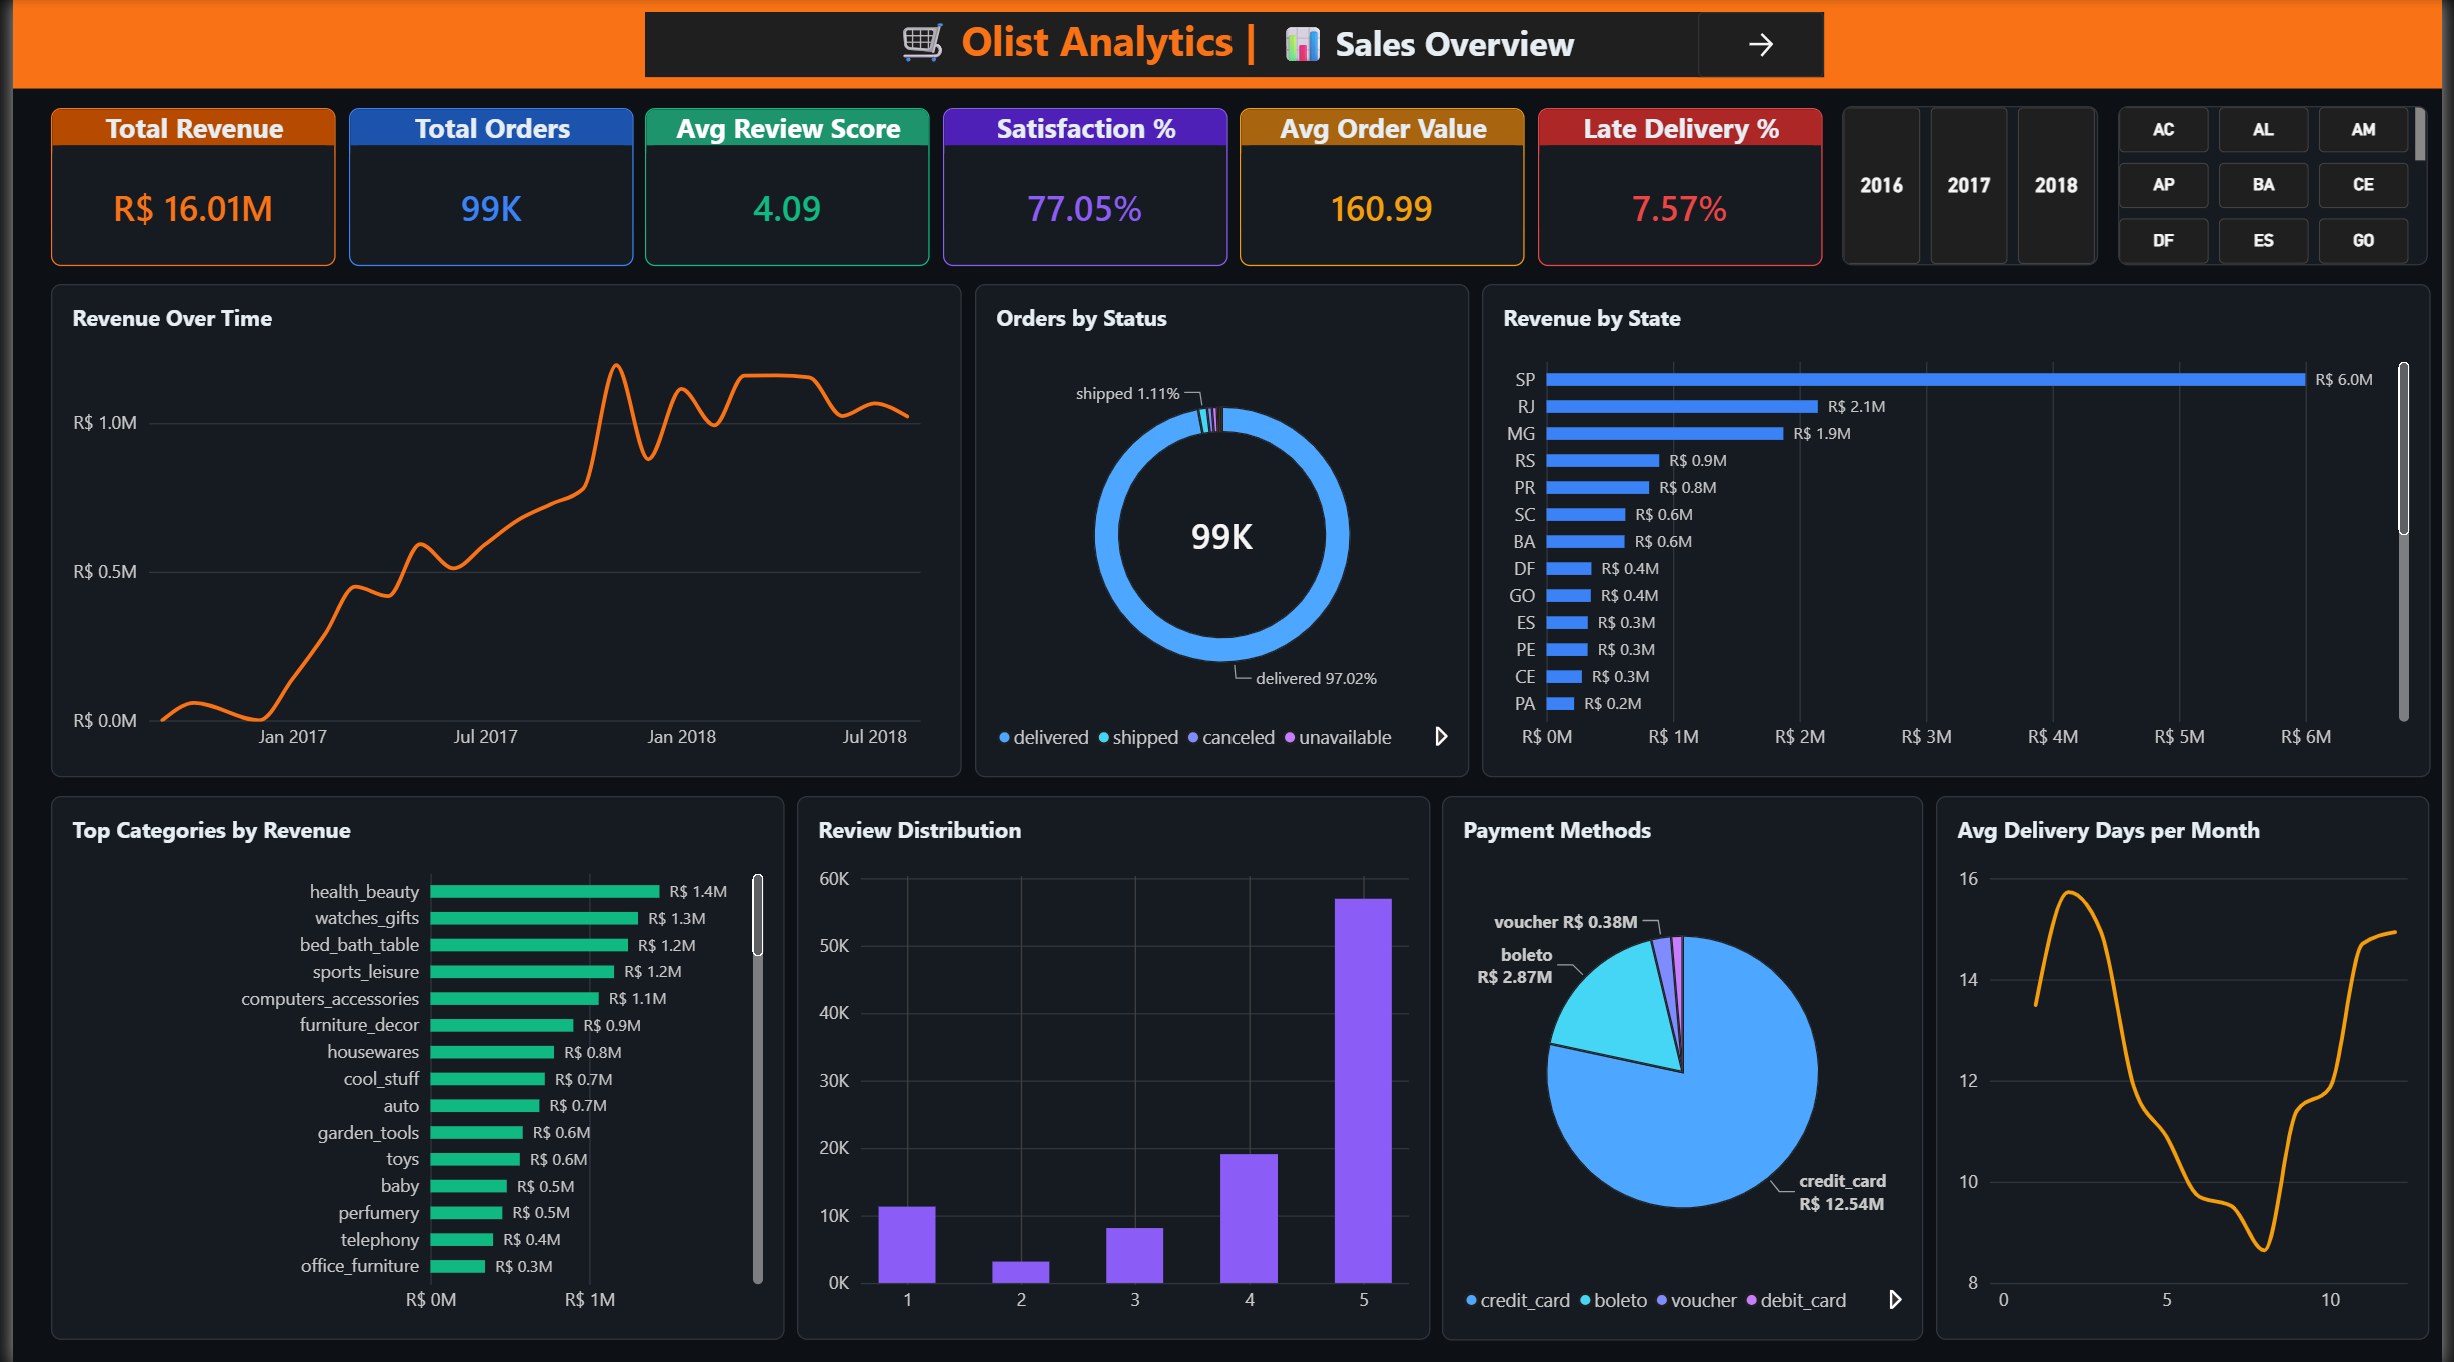

Layout of this report page (visuals, bound fields, positions):
{"tool":"powerbi","page":{"name":"Sales Overview","canvas":[1920,1080],"ordinal":0},"visuals":[{"type":"lineChart","title":"📈 Revenue Over Time","fields":{"Category":["fact_orders.year_month"],"Y":["fact_orders.Total Revenue"]},"box":[30,225,720,390],"z":2000},{"type":"donutChart","title":"📊 Orders by Status","fields":{"Category":["fact_orders.order_status"],"Y":["fact_orders.Total Orders"]},"box":[760,225,390,390],"z":2000},{"type":"barChart","title":"🗺️ Revenue by State","fields":{"Category":["fact_orders.customer_state"],"Y":["fact_orders.Total Revenue"]},"box":[1160,225,750,390],"z":2000},{"type":"barChart","title":"🏆 Top Categories by Revenue","fields":{"Category":["dim_products.product_category_en"],"Y":["fact_orders.Total Revenue"]},"box":[30,630,580,430],"z":2000},{"type":"clusteredColumnChart","title":"⭐ Review Distribution","fields":{"Category":["fact_orders.review_score"],"Y":["fact_orders.Total Orders"]},"box":[620,630,500,430],"z":2000},{"type":"pieChart","title":"💳 Payment Methods","fields":{"Category":["fact_orders.payment_type"],"Y":["fact_orders.Total Revenue"]},"box":[1130,630,380,430],"z":2000},{"type":"lineChart","title":"🚚 Avg Delivery Days/Month","fields":{"Category":["fact_orders.purchase_month"],"Y":["fact_orders.Avg Delivery Days"]},"box":[1520,630,390,430],"z":2000},{"type":"cardVisual","title":"💰 Total Revenue","fields":{"Data":["fact_orders.Total Revenue"]},"box":[30,85,225,125],"z":5000},{"type":"cardVisual","title":"📦 Total Orders","fields":{"Data":["fact_orders.Total Orders"]},"box":[265,85,225,125],"z":5000},{"type":"cardVisual","title":"⭐ Avg Review Score","fields":{"Data":["fact_orders.Avg Review Score"]},"box":[500,85,225,125],"z":5000},{"type":"cardVisual","title":"😊 Satisfaction %","fields":{"Data":["fact_orders.Satisfaction Rate"]},"box":[735,85,225,125],"z":5000},{"type":"cardVisual","title":"🧾 Avg Order Value","fields":{"Data":["fact_orders.Avg Order Value"]},"box":[970,85,225,125],"z":5000},{"type":"cardVisual","title":"🚚 Late Delivery %","fields":{"Data":["fact_orders.Late Delivery Rate"]},"box":[1205,85,225,125],"z":5000},{"type":"advancedSlicerVisual","fields":{"Values":["fact_orders.purchase_year"]},"box":[1500,80,200,130],"z":7000},{"type":"advancedSlicerVisual","fields":{"Values":["fact_orders.customer_state"]},"box":[1710,80,200,130],"z":7000},{"type":"textbox","box":[950,18,500,36],"z":8400},{"type":"textbox","box":[32,10,900,52],"z":8500},{"type":"shape","box":[0,0,1920,70],"z":9000}]}

Visuals, with their boxes in screenshot pixels (x1, y1, x2, y2), scaled from the page's 1920x1080 canvas onto the 2454x1362 screenshot:
"📈 Revenue Over Time" lineChart: 38:284:959:776
"📊 Orders by Status" donutChart: 971:284:1470:776
"🗺️ Revenue by State" barChart: 1483:284:2441:776
"🏆 Top Categories by Revenue" barChart: 38:794:780:1337
"⭐ Review Distribution" clusteredColumnChart: 792:794:1432:1337
"💳 Payment Methods" pieChart: 1444:794:1930:1337
"🚚 Avg Delivery Days/Month" lineChart: 1943:794:2441:1337
"💰 Total Revenue" cardVisual: 38:107:326:265
"📦 Total Orders" cardVisual: 339:107:626:265
"⭐ Avg Review Score" cardVisual: 639:107:927:265
"😊 Satisfaction %" cardVisual: 939:107:1227:265
"🧾 Avg Order Value" cardVisual: 1240:107:1527:265
"🚚 Late Delivery %" cardVisual: 1540:107:1828:265
advancedSlicerVisual - fact_orders.purchase_year: 1917:101:2173:265
advancedSlicerVisual - fact_orders.customer_state: 2186:101:2441:265
textbox: 1214:23:1853:68
textbox: 41:13:1191:78
shape: 0:0:2453:88
